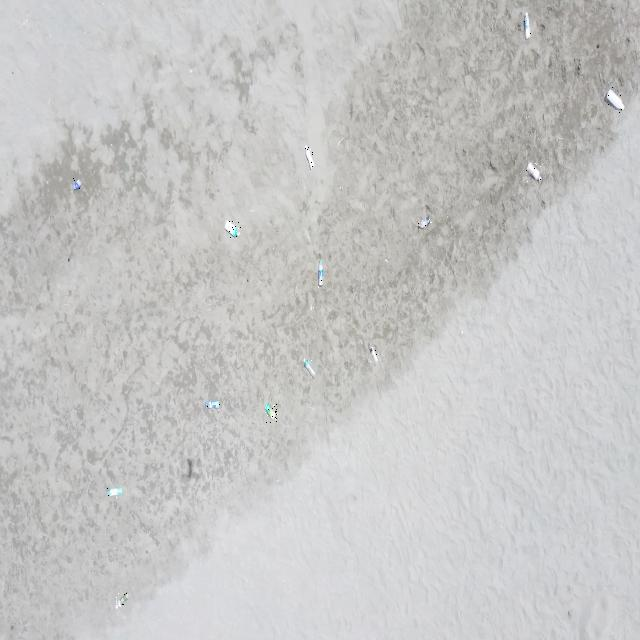plastic-bottle: (605, 87, 625, 113), (526, 161, 543, 183), (226, 220, 242, 238), (304, 144, 314, 170), (266, 403, 279, 423), (524, 10, 532, 40), (305, 358, 317, 377), (115, 592, 129, 608), (106, 486, 123, 499), (207, 397, 222, 411), (368, 342, 377, 365), (318, 258, 324, 288), (418, 216, 432, 228), (73, 178, 83, 192)
